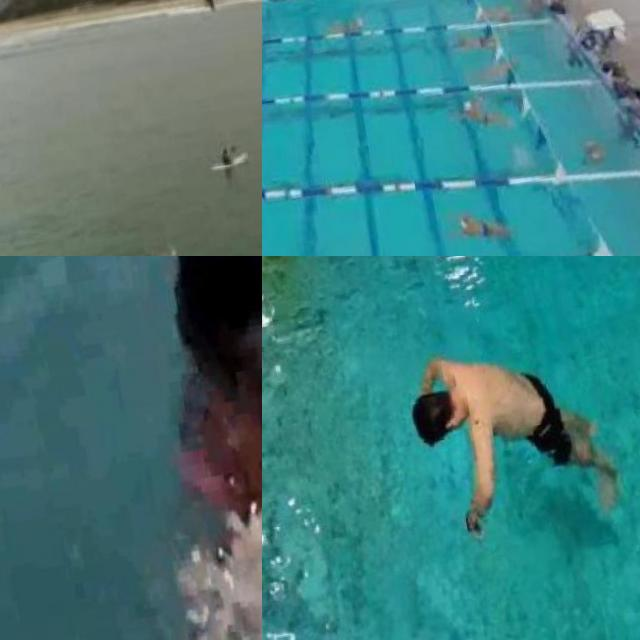drowning: (398, 322, 633, 558), (130, 256, 262, 606)
swimming: (446, 202, 509, 252), (456, 91, 502, 126), (322, 5, 368, 40), (446, 18, 491, 53), (140, 238, 181, 256)
